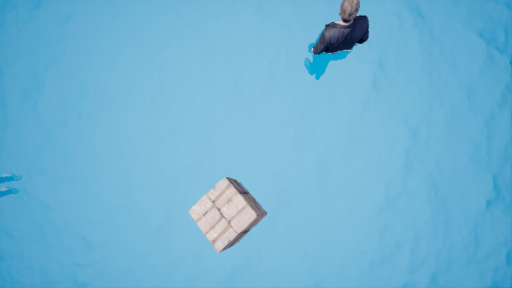person: (312, 1, 370, 89)
